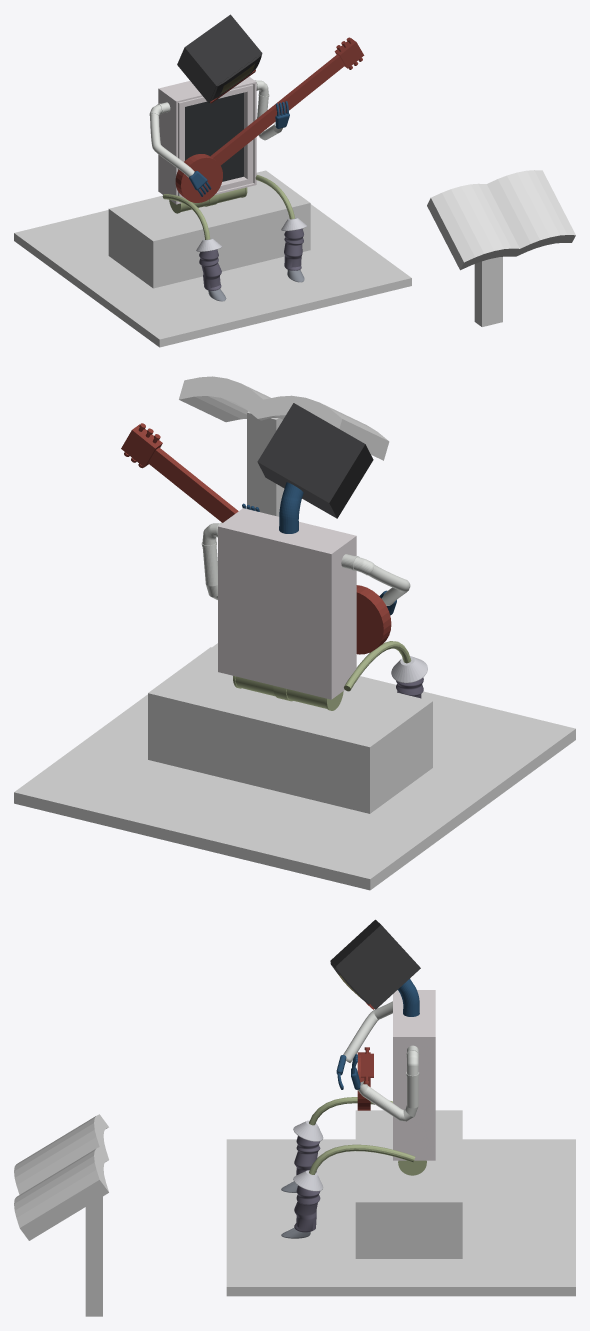
Rendered from Seodo_Statue1.fbx.
The picture shows the model from 3 angles, top to bottom: view 1: azimuth 30°, elevation 25°; view 2: azimuth 150°, elevation 25°; view 3: azimuth 270°, elevation 25°; orthographic projection. The views are drawn at different scales.
Visible parts, largest first — view 1: SM_Statue1_Support, SM_Statue1_Book, SM_Statue1_Body, SM_Statue1_Guitar, SM_Statue1_Head, SM_Statue1_Body_Screen, SM_Statue1_Socks, SM_Statue1_Leg, SM_Statue1_Hand; view 2: SM_Statue1_Support, SM_Statue1_Body, SM_Statue1_Head, SM_Statue1_Book, SM_Statue1_Guitar, SM_Statue1_Leg, SM_Statue1_Hand; view 3: SM_Statue1_Support, SM_Statue1_Book, SM_Statue1_Body, SM_Statue1_Head, SM_Statue1_Socks, SM_Statue1_Leg, SM_Statue1_Hand, SM_Statue1_Guitar.
Boxes of the visible parts, <box> form: SM_Statue1_Support: <box>14,170,411,347</box>; SM_Statue1_Book: <box>427,170,575,326</box>; SM_Statue1_Body: <box>149,76,306,251</box>; SM_Statue1_Guitar: <box>175,37,364,202</box>; SM_Statue1_Head: <box>177,14,262,103</box>; SM_Statue1_Body_Screen: <box>185,92,243,181</box>; SM_Statue1_Socks: <box>199,228,303,290</box>; SM_Statue1_Leg: <box>162,175,294,239</box>; SM_Statue1_Hand: <box>189,101,289,196</box>; SM_Statue1_Support: <box>14,643,575,890</box>; SM_Statue1_Body: <box>201,508,427,699</box>; SM_Statue1_Head: <box>257,403,373,518</box>; SM_Statue1_Book: <box>179,376,389,516</box>; SM_Statue1_Guitar: <box>121,423,391,654</box>; SM_Statue1_Leg: <box>233,641,411,710</box>; SM_Statue1_Hand: <box>242,482,396,615</box>; SM_Statue1_Support: <box>226,1110,575,1296</box>; SM_Statue1_Book: <box>14,1114,108,1316</box>; SM_Statue1_Body: <box>293,990,435,1191</box>; SM_Statue1_Head: <box>330,919,420,1009</box>; SM_Statue1_Socks: <box>294,1136,320,1232</box>; SM_Statue1_Leg: <box>309,1097,426,1175</box>; SM_Statue1_Hand: <box>336,979,419,1089</box>; SM_Statue1_Guitar: <box>357,1002,374,1110</box>.
Size of the model in its own units: 420 by 309 by 516.
